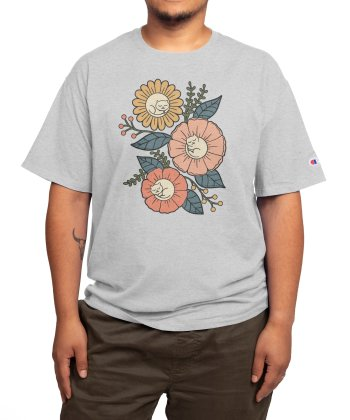design: (116, 77, 228, 217)
